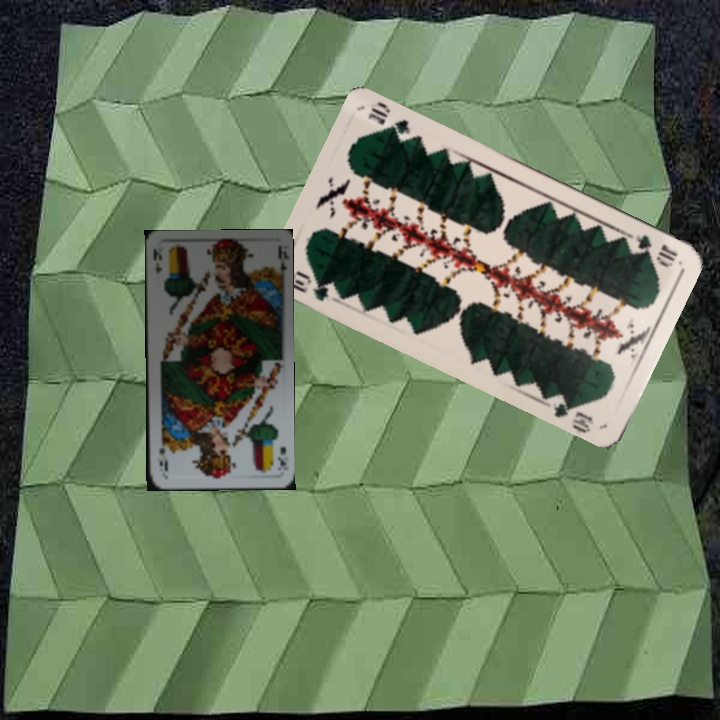EK: (274, 443, 290, 473), (149, 245, 164, 276)
G10: (631, 230, 680, 269), (285, 266, 331, 304)
